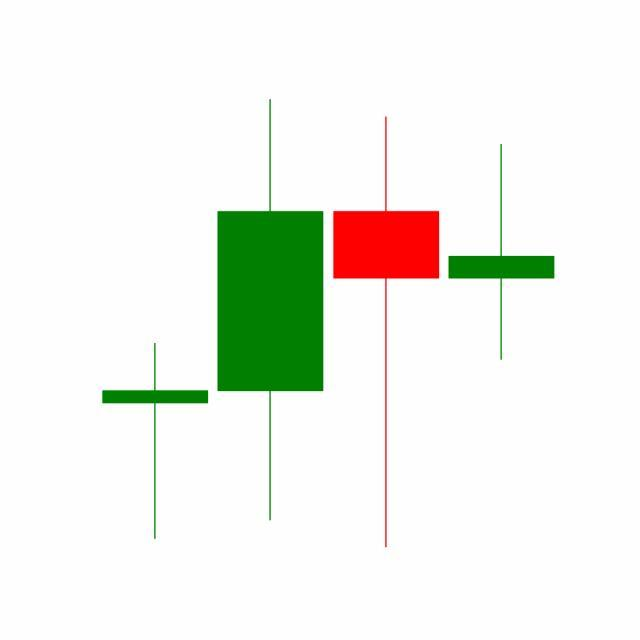Spinning Top: (444, 142, 560, 363)
